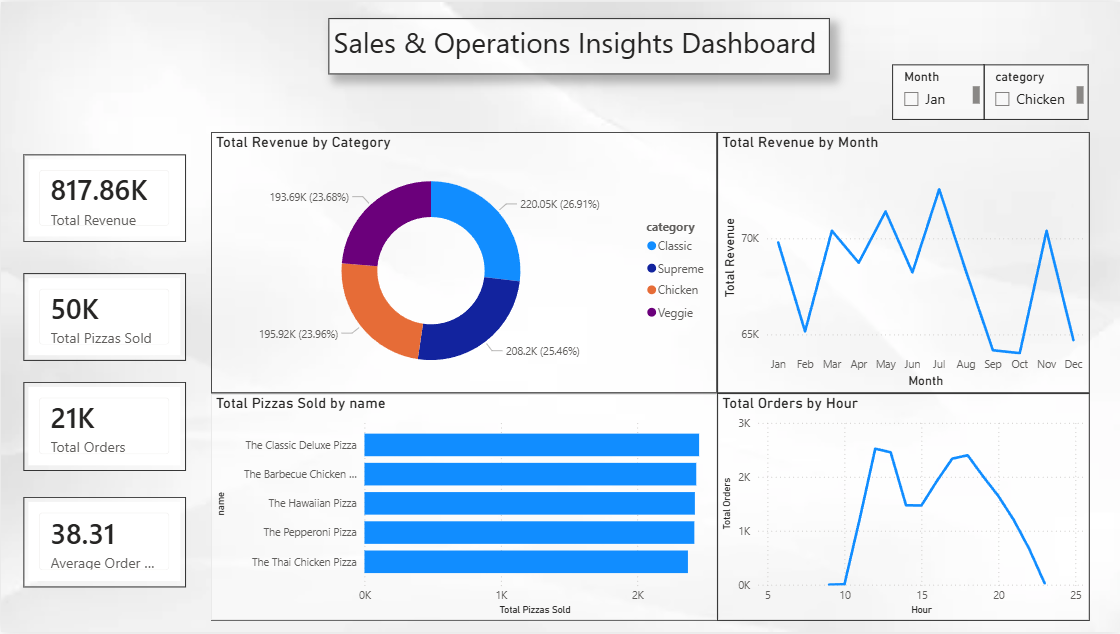

Layout of this report page (visuals, bound fields, positions):
{"tool":"powerbi","page":{"name":"Page 1","canvas":[1280,720],"ordinal":0},"visuals":[{"type":"cardVisual","fields":{"Data":["order_details.Total Revenue"]},"box":[25.7,174.3,185.7,100],"z":0},{"type":"cardVisual","fields":{"Data":["order_details.Total Orders"]},"box":[25.7,434.3,185.7,101.4],"z":1000},{"type":"cardVisual","fields":{"Data":["order_details.Total Pizzas Sold"]},"box":[25.7,310,185.7,100],"z":2000},{"type":"cardVisual","fields":{"Data":["order_details.Average Order Value"]},"box":[25.7,565.7,185.7,102.9],"z":3000},{"type":"lineChart","fields":{"Category":["orders.Hour"],"Y":["order_details.Total Orders"]},"box":[818.6,447.1,425.7,260],"z":4000},{"type":"barChart","fields":{"Category":["pizza_types.name"],"Y":["order_details.Total Pizzas Sold"]},"box":[240,447.1,578.6,260],"z":5000},{"type":"lineChart","fields":{"Y":["order_details.Total Revenue"],"Category":["orders.Month"]},"box":[818.6,148.6,425.7,298.6],"z":6000},{"type":"slicer","fields":{"Values":["pizza_types.category"]},"box":[1122.9,71.9,120,62.9],"z":7000},{"type":"slicer","fields":{"Values":["orders.Month"]},"box":[1018.6,71.9,105.7,62.9],"z":8000},{"type":"donutChart","title":"Total Revenue by Category","fields":{"Y":["order_details.Total Revenue"],"Category":["pizza_types.category"]},"box":[240,148.6,578.6,298.6],"z":9000},{"type":"textbox","box":[374.3,18.6,572.9,64.3],"z":10000}]}

Visuals, with their boxes in screenshot pixels (x1, y1, x2, y2), scaled from the page's 1280x720 canvas onto the 1120x634 screenshot:
cardVisual - order_details.Total Revenue: 22/153/185/242
cardVisual - order_details.Total Orders: 22/382/185/472
cardVisual - order_details.Total Pizzas Sold: 22/273/185/361
cardVisual - order_details.Average Order Value: 22/498/185/589
lineChart - orders.Hour x order_details.Total Orders: 716/394/1089/623
barChart - pizza_types.name x order_details.Total Pizzas Sold: 210/394/716/623
lineChart - order_details.Total Revenue x orders.Month: 716/131/1089/394
slicer - pizza_types.category: 983/63/1088/119
slicer - orders.Month: 891/63/984/119
"Total Revenue by Category" donutChart: 210/131/716/394
textbox: 328/16/829/73
